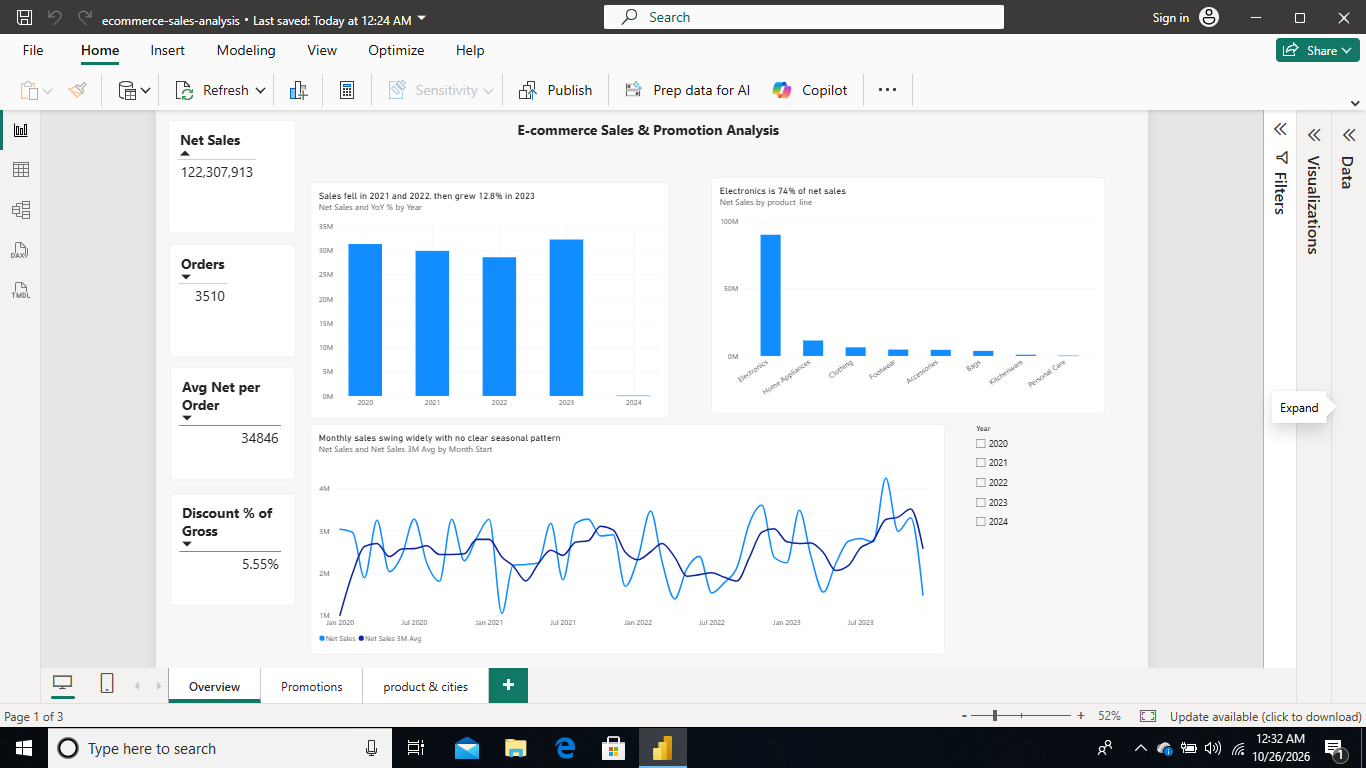

The dashboard page shown, as its layout file describes it:
{"tool":"powerbi","page":{"name":"Overview","canvas":[1920,1080],"ordinal":0},"visuals":[{"type":"tableEx","fields":{"Values":["_Measures.Net Sales"]},"box":[23.6,19.3,246.7,218.8],"z":0},{"type":"tableEx","fields":{"Values":["_Measures.Orders"]},"box":[25.7,259.6,244.6,218.8],"z":1000},{"type":"tableEx","fields":{"Values":["_Measures.Avg Net per Order"]},"box":[27.9,497.7,242.4,218.8],"z":2000},{"type":"tableEx","fields":{"Values":["_Measures.Discount % of Gross"]},"box":[27.9,742.3,242.4,218.8],"z":3000},{"type":"lineChart","title":"Monthly sales swing widely with no clear seasonal pattern","fields":{"Category":["dim_date.Month Start"],"Y":["_Measures.Net Sales","_Measures.Net Sales 3M Avg"]},"box":[297.4,608.1,1229.3,446.1],"z":4000},{"type":"lineClusteredColumnComboChart","title":"Electronics is 74% of net sales","fields":{"Category":["dim_products.product_line"],"Y":["_Measures.Net Sales"]},"box":[1074,128.9,763.4,459.3],"z":5000},{"type":"lineClusteredColumnComboChart","title":"Sales fell in 2021 and 2022, then grew 12.8% in 2023","fields":{"Category":["dim_date.Year"],"Y":["_Measures.Net Sales"]},"box":[297.4,138.8,695.1,459.1],"z":6000},{"type":"slicer","fields":{"Values":["dim_date.Year"]},"box":[1579.6,608.1,257.8,446.1],"z":7000},{"type":"textbox","box":[1663,608,257,446],"z":7001},{"type":"textbox","box":[297.4,19.8,1308.6,109.1],"z":7002}]}

Visuals, with their boxes on the page's 1920x1080 design canvas (x1, y1, x2, y2). These are canvas units, not pixel positions in the 1366x768 screenshot, which may show the page scaled, cropped or inside an application window:
tableEx - _Measures.Net Sales: pyautogui.locateOnScreen(24, 19, 270, 238)
tableEx - _Measures.Orders: pyautogui.locateOnScreen(26, 260, 270, 478)
tableEx - _Measures.Avg Net per Order: pyautogui.locateOnScreen(28, 498, 270, 716)
tableEx - _Measures.Discount % of Gross: pyautogui.locateOnScreen(28, 742, 270, 961)
"Monthly sales swing widely with no clear seasonal pattern" lineChart: pyautogui.locateOnScreen(297, 608, 1527, 1054)
"Electronics is 74% of net sales" lineClusteredColumnComboChart: pyautogui.locateOnScreen(1074, 129, 1837, 588)
"Sales fell in 2021 and 2022, then grew 12.8% in 2023" lineClusteredColumnComboChart: pyautogui.locateOnScreen(297, 139, 992, 598)
slicer - dim_date.Year: pyautogui.locateOnScreen(1580, 608, 1837, 1054)
textbox: pyautogui.locateOnScreen(1663, 608, 1920, 1054)
textbox: pyautogui.locateOnScreen(297, 20, 1606, 129)
